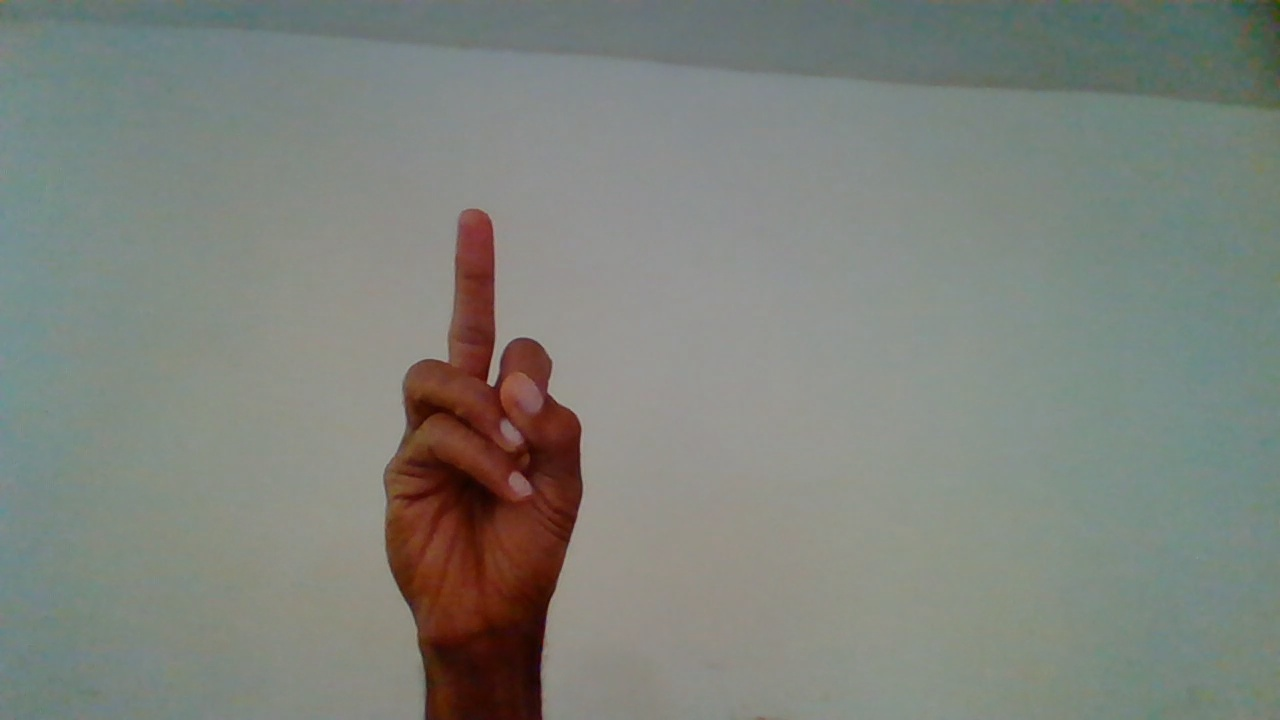he: (374, 206, 588, 699)
